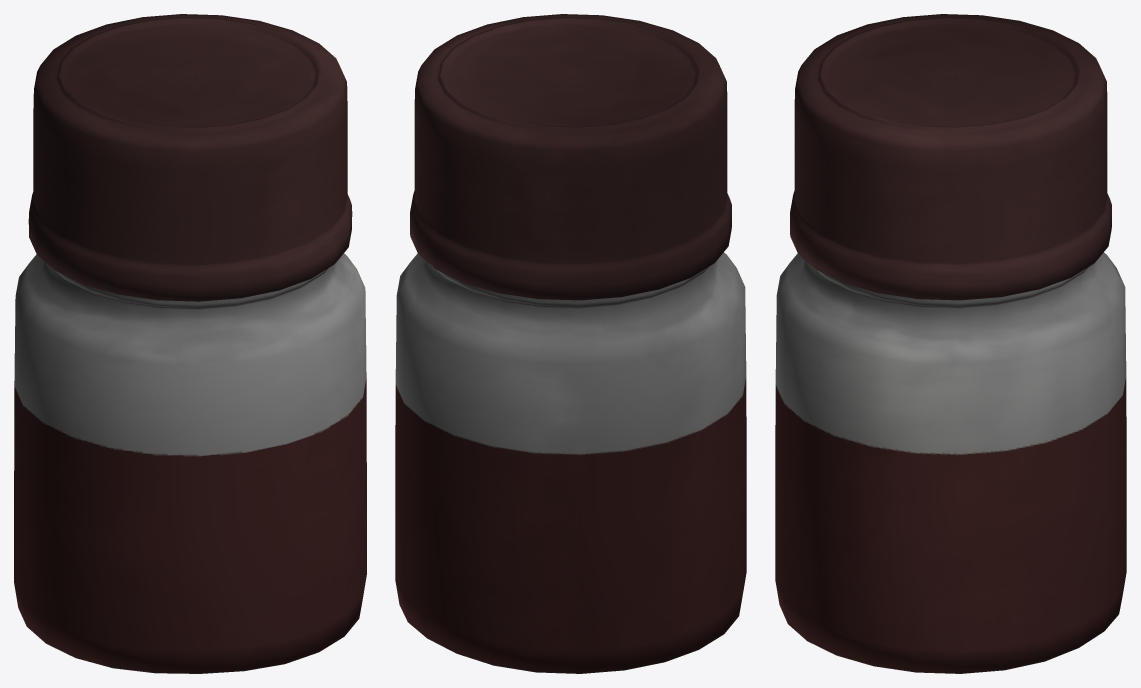
The model's file is Tarrito.fbx.
3 views of the same model, side by side, from view 1: azimuth 30°, elevation 25°; view 2: azimuth 150°, elevation 25°; view 3: azimuth 270°, elevation 25° (orthographic).
Parts seen in each view (by area): view 1: Tarro, Tapa; view 2: Tarro, Tapa; view 3: Tarro, Tapa.
Boxes of the visible parts, x1,y1,x2,y2 form: Tarro: (14,253,366,673); Tapa: (28,14,352,301); Tarro: (395,252,746,673); Tapa: (410,14,731,300); Tarro: (775,252,1126,673); Tapa: (790,14,1111,300).
Bounding box in the file's own units: 392 × 656 × 392.
